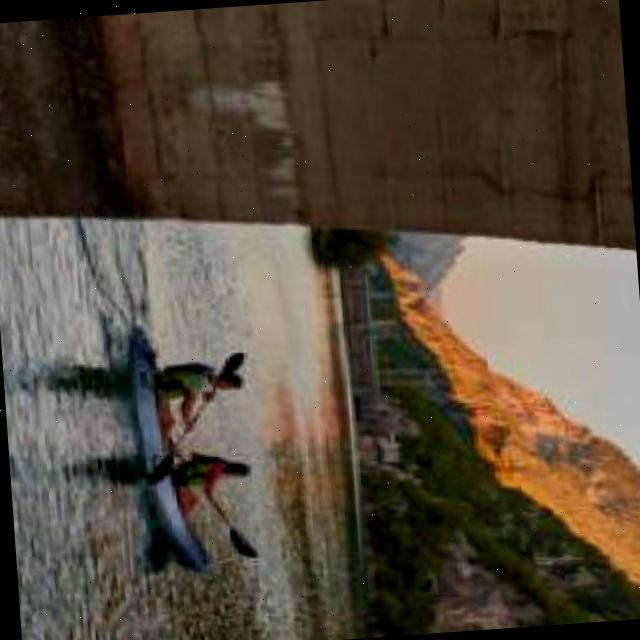kayak: (128, 324, 212, 572)
